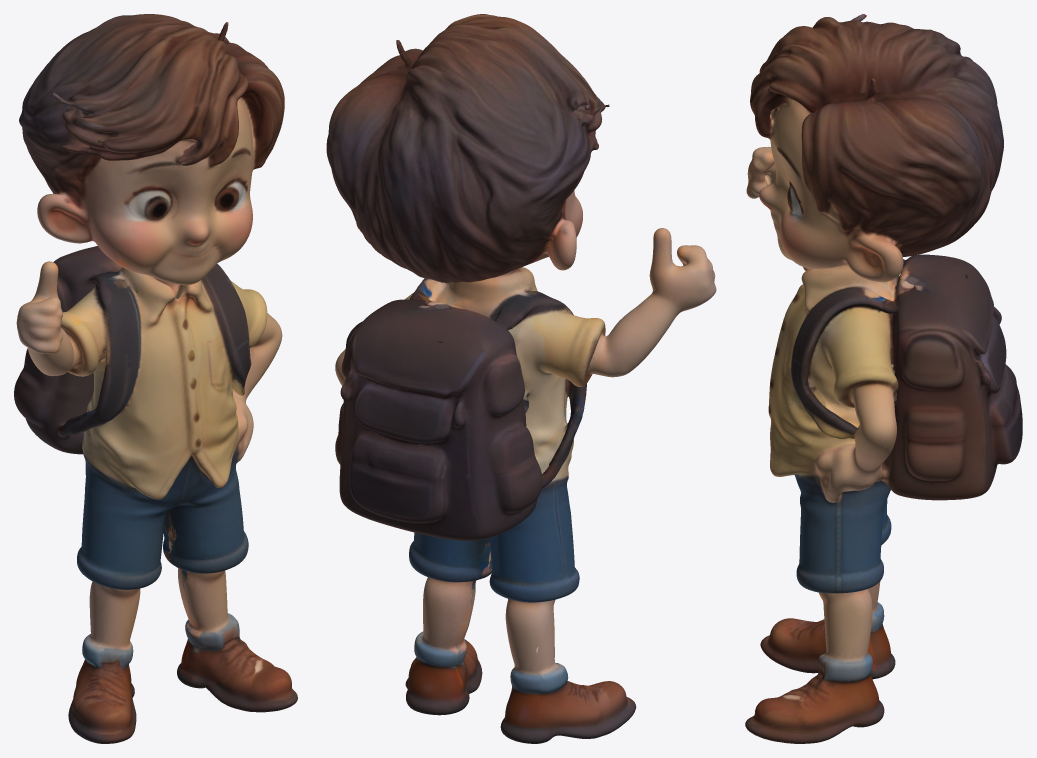
The picture shows the model from 3 angles, left to right: view 1: azimuth 30°, elevation 25°; view 2: azimuth 150°, elevation 25°; view 3: azimuth 270°, elevation 25°; orthographic projection. The views are drawn at different scales.
Visible parts, largest first — view 1: tripo_node_2ca8d1de-a07c-4653-996f-d6b7be632140; view 2: tripo_node_2ca8d1de-a07c-4653-996f-d6b7be632140; view 3: tripo_node_2ca8d1de-a07c-4653-996f-d6b7be632140.
Boxes of the visible parts, <box> form: tripo_node_2ca8d1de-a07c-4653-996f-d6b7be632140: <box>14,14,297,743</box>; tripo_node_2ca8d1de-a07c-4653-996f-d6b7be632140: <box>326,14,716,743</box>; tripo_node_2ca8d1de-a07c-4653-996f-d6b7be632140: <box>745,14,1022,743</box>.
Size of the model in its own units: 0.4628 by 0.9483 by 0.3527.
Materials: 1 (1 with a texture image).
